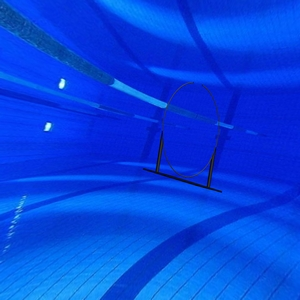circle: (142, 78, 225, 196)
